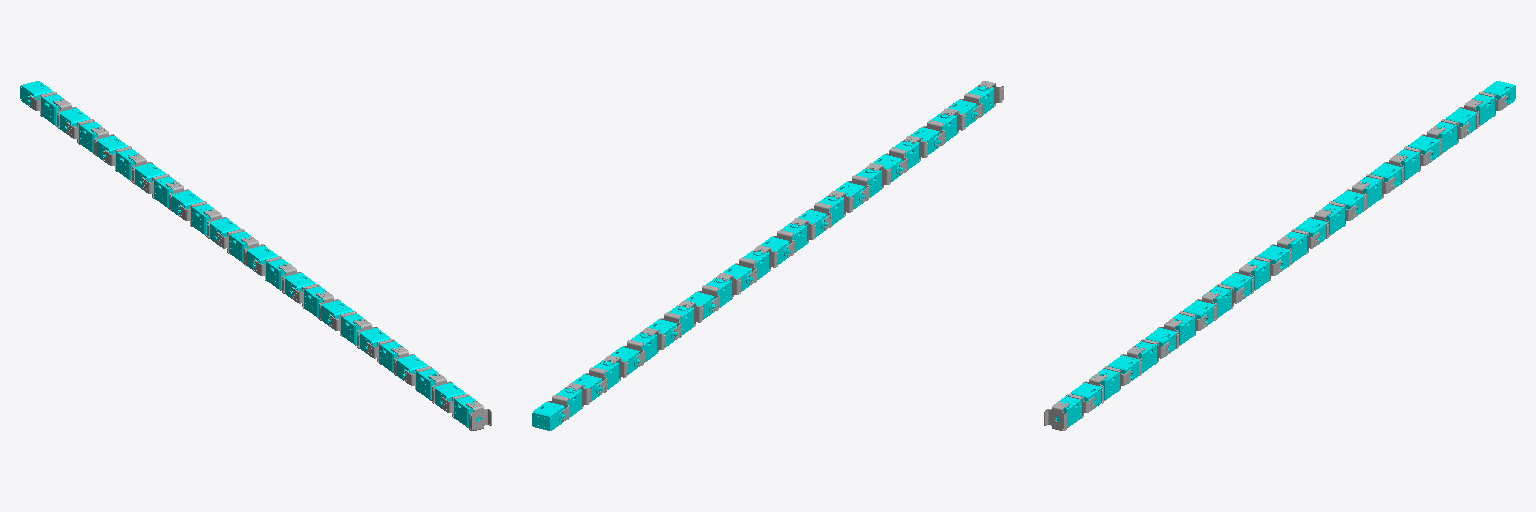
--- What the picture shows (computed from the rendered views, not written in the file) ---
The picture shows the robot from 3 angles, left to right: view 1: azimuth 30°, elevation 25°; view 2: azimuth 150°, elevation 25°; view 3: azimuth 330°, elevation 25°; orthographic projection.
Model test_robot with 49 links and 48 joints (24 revolute, 24 fixed), rooted at world, posed all joints at 0.
Links seen in each view (by area): view 1: none; view 2: dynamixel_001; view 3: none.
Boxes of the visible links, x1=… form: dynamixel_001: x1=532, y1=402, x2=565, y2=430.
Bounding box of the posed robot: 0.0439 × 1.46 × 0.0439 m (x, y, z).
48 mesh visuals loaded from 2 distinct referenced files (2 binary STL).

robot.urdf — test_robot:
<?xml version="1.0" encoding="utf-8"?>
<!-- =================================================================================== -->
<!-- |    This document was autogenerated by xacro from snake_stl.xacro                | -->
<!-- |    EDITING THIS FILE BY HAND IS NOT RECOMMENDED                                 | -->
<!-- =================================================================================== -->
<robot name="test_robot">
  <link name="world"/>
  <!-- マクロ関数の定義 -->
  <!-- link名 -->
  <link name="dynamixel_001">
    <!-- 見た目 -->
    <visual>
      <geometry>
        <mesh filename="package://snake/mesh/XH_430_idler.stl"/>
      </geometry>
      <material name="cyan">
        <color rgba="0.0 1.0 1.0 1.0"/>
      </material>
      <origin rpy="3.14159265359 1.57079632679 1.57079632679" xyz="0 0 0"/>
    </visual>
    <!--物理的特性-->
    <!--干渉-->
    <collision>
      <geometry>
        <mesh filename="package://snake/mesh/XH_430_idler.stl"/>
      </geometry>
    </collision>
    <!--慣性-->
    <inertial>
      <mass value="0.082"/>
      <inertia ixx="0.023729564" ixy="0" ixz="0" iyy="0.013112295" iyz="0" izz="0.020942871"/>
    </inertial>
  </link>
  <!-- link名 -->
  <link name="dynamixel_101">
    <!-- 見た目 -->
    <visual>
      <geometry>
        <mesh filename="package://snake/mesh/XH_430_idler.stl"/>
      </geometry>
      <material name="cyan">
        <color rgba="0.0 1.0 1.0 1.0"/>
      </material>
      <origin rpy="3.14159265359 1.57079632679 1.57079632679" xyz="0 0 0"/>
    </visual>
    <!--物理的特性-->
    <!--干渉-->
    <collision>
      <geometry>
        <mesh filename="package://snake/mesh/XH_430_idler.stl"/>
      </geometry>
    </collision>
    <!--慣性-->
    <inertial>
      <mass value="0.082"/>
      <inertia ixx="0.023729564" ixy="0" ixz="0" iyy="0.013112295" iyz="0" izz="0.020942871"/>
    </inertial>
  </link>
  <!-- link名 -->
  <link name="dynamixel_002">
    <!-- 見た目 -->
    <visual>
      <geometry>
        <mesh filename="package://snake/mesh/XH_430_idler.stl"/>
      </geometry>
      <material name="cyan">
        <color rgba="0.0 1.0 1.0 1.0"/>
      </material>
      <origin rpy="3.14159265359 1.57079632679 1.57079632679" xyz="0 0 0"/>
    </visual>
    <!--物理的特性-->
    <!--干渉-->
    <collision>
      <geometry>
        <mesh filename="package://snake/mesh/XH_430_idler.stl"/>
      </geometry>
    </collision>
    <!--慣性-->
    <inertial>
      <mass value="0.082"/>
      <inertia ixx="0.023729564" ixy="0" ixz="0" iyy="0.013112295" iyz="0" izz="0.020942871"/>
    </inertial>
  </link>
  <!-- link名 -->
  <link name="dynamixel_102">
    <!-- 見た目 -->
    <visual>
      <geometry>
        <mesh filename="package://snake/mesh/XH_430_idler.stl"/>
      </geometry>
      <material name="cyan">
        <color rgba="0.0 1.0 1.0 1.0"/>
      </material>
      <origin rpy="3.14159265359 1.57079632679 1.57079632679" xyz="0 0 0"/>
    </visual>
    <!--物理的特性-->
    <!--干渉-->
    <collision>
      <geometry>
        <mesh filename="package://snake/mesh/XH_430_idler.stl"/>
      </geometry>
    </collision>
    <!--慣性-->
    <inertial>
      <mass value="0.082"/>
      <inertia ixx="0.023729564" ixy="0" ixz="0" iyy="0.013112295" iyz="0" izz="0.020942871"/>
    </inertial>
  </link>
  <!-- link名 -->
  <link name="dynamixel_003">
    <!-- 見た目 -->
    <visual>
      <geometry>
        <mesh filename="package://snake/mesh/XH_430_idler.stl"/>
      </geometry>
      <material name="cyan">
        <color rgba="0.0 1.0 1.0 1.0"/>
      </material>
      <origin rpy="3.14159265359 1.57079632679 1.57079632679" xyz="0 0 0"/>
    </visual>
    <!--物理的特性-->
    <!--干渉-->
    <collision>
      <geometry>
        <mesh filename="package://snake/mesh/XH_430_idler.stl"/>
      </geometry>
    </collision>
    <!--慣性-->
    <inertial>
      <mass value="0.082"/>
      <inertia ixx="0.023729564" ixy="0" ixz="0" iyy="0.013112295" iyz="0" izz="0.020942871"/>
    </inertial>
  </link>
  <!-- link名 -->
  <link name="dynamixel_103">
    <!-- 見た目 -->
    <visual>
      <geometry>
        <mesh filename="package://snake/mesh/XH_430_idler.stl"/>
      </geometry>
      <material name="cyan">
        <color rgba="0.0 1.0 1.0 1.0"/>
      </material>
      <origin rpy="3.14159265359 1.57079632679 1.57079632679" xyz="0 0 0"/>
    </visual>
    <!--物理的特性-->
    <!--干渉-->
    <collision>
      <geometry>
        <mesh filename="package://snake/mesh/XH_430_idler.stl"/>
      </geometry>
    </collision>
    <!--慣性-->
    <inertial>
      <mass value="0.082"/>
      <inertia ixx="0.023729564" ixy="0" ixz="0" iyy="0.013112295" iyz="0" izz="0.020942871"/>
    </inertial>
  </link>
  <!-- link名 -->
  <link name="dynamixel_004">
    <!-- 見た目 -->
    <visual>
      <geometry>
        <mesh filename="package://snake/mesh/XH_430_idler.stl"/>
      </geometry>
      <material name="cyan">
        <color rgba="0.0 1.0 1.0 1.0"/>
      </material>
      <origin rpy="3.14159265359 1.57079632679 1.57079632679" xyz="0 0 0"/>
    </visual>
    <!--物理的特性-->
    <!--干渉-->
    <collision>
      <geometry>
        <mesh filename="package://snake/mesh/XH_430_idler.stl"/>
      </geometry>
    </collision>
    <!--慣性-->
    <inertial>
      <mass value="0.082"/>
      <inertia ixx="0.023729564" ixy="0" ixz="0" iyy="0.013112295" iyz="0" izz="0.020942871"/>
    </inertial>
  </link>
  <!-- link名 -->
  <link name="dynamixel_104">
    <!-- 見た目 -->
    <visual>
      <geometry>
        <mesh filename="package://snake/mesh/XH_430_idler.stl"/>
      </geometry>
      <material name="cyan">
        <color rgba="0.0 1.0 1.0 1.0"/>
      </material>
      <origin rpy="3.14159265359 1.57079632679 1.57079632679" xyz="0 0 0"/>
    </visual>
    <!--物理的特性-->
    <!--干渉-->
    <collision>
      <geometry>
        <mesh filename="package://snake/mesh/XH_430_idler.stl"/>
      </geometry>
    </collision>
    <!--慣性-->
    <inertial>
      <mass value="0.082"/>
      <inertia ixx="0.023729564" ixy="0" ixz="0" iyy="0.013112295" iyz="0" izz="0.020942871"/>
    </inertial>
  </link>
  <!-- link名 -->
  <link name="dynamixel_005">
    <!-- 見た目 -->
    <visual>
      <geometry>
        <mesh filename="package://snake/mesh/XH_430_idler.stl"/>
      </geometry>
      <material name="cyan">
        <color rgba="0.0 1.0 1.0 1.0"/>
      </material>
      <origin rpy="3.14159265359 1.57079632679 1.57079632679" xyz="0 0 0"/>
    </visual>
    <!--物理的特性-->
    <!--干渉-->
    <collision>
      <geometry>
        <mesh filename="package://snake/mesh/XH_430_idler.stl"/>
      </geometry>
    </collision>
    <!--慣性-->
    <inertial>
      <mass value="0.082"/>
      <inertia ixx="0.023729564" ixy="0" ixz="0" iyy="0.013112295" iyz="0" izz="0.020942871"/>
    </inertial>
  </link>
  <!-- link名 -->
  <link name="dynamixel_105">
    <!-- 見た目 -->
    <visual>
      <geometry>
        <mesh filename="package://snake/mesh/XH_430_idler.stl"/>
      </geometry>
      <material name="cyan">
        <color rgba="0.0 1.0 1.0 1.0"/>
      </material>
      <origin rpy="3.14159265359 1.57079632679 1.57079632679" xyz="0 0 0"/>
    </visual>
    <!--物理的特性-->
    <!--干渉-->
    <collision>
      <geometry>
        <mesh filename="package://snake/mesh/XH_430_idler.stl"/>
      </geometry>
    </collision>
    <!--慣性-->
    <inertial>
      <mass value="0.082"/>
      <inertia ixx="0.023729564" ixy="0" ixz="0" iyy="0.013112295" iyz="0" izz="0.020942871"/>
    </inertial>
  </link>
  <!-- link名 -->
  <link name="dynamixel_006">
    <!-- 見た目 -->
    <visual>
      <geometry>
        <mesh filename="package://snake/mesh/XH_430_idler.stl"/>
      </geometry>
      <material name="cyan">
        <color rgba="0.0 1.0 1.0 1.0"/>
      </material>
      <origin rpy="3.14159265359 1.57079632679 1.57079632679" xyz="0 0 0"/>
    </visual>
    <!--物理的特性-->
    <!--干渉-->
    <collision>
      <geometry>
        <mesh filename="package://snake/mesh/XH_430_idler.stl"/>
      </geometry>
    </collision>
    <!--慣性-->
    <inertial>
      <mass value="0.082"/>
      <inertia ixx="0.023729564" ixy="0" ixz="0" iyy="0.013112295" iyz="0" izz="0.020942871"/>
    </inertial>
  </link>
  <!-- link名 -->
  <link name="dynamixel_106">
    <!-- 見た目 -->
    <visual>
      <geometry>
        <mesh filename="package://snake/mesh/XH_430_idler.stl"/>
      </geometry>
      <material name="cyan">
        <color rgba="0.0 1.0 1.0 1.0"/>
      </material>
      <origin rpy="3.14159265359 1.57079632679 1.57079632679" xyz="0 0 0"/>
    </visual>
    <!--物理的特性-->
    <!--干渉-->
    <collision>
      <geometry>
        <mesh filename="package://snake/mesh/XH_430_idler.stl"/>
      </geometry>
    </collision>
    <!--慣性-->
    <inertial>
      <mass value="0.082"/>
      <inertia ixx="0.023729564" ixy="0" ixz="0" iyy="0.013112295" iyz="0" izz="0.020942871"/>
    </inertial>
  </link>
  <!-- link名 -->
  <link name="dynamixel_007">
    <!-- 見た目 -->
    <visual>
      <geometry>
        <mesh filename="package://snake/mesh/XH_430_idler.stl"/>
      </geometry>
      <material name="cyan">
        <color rgba="0.0 1.0 1.0 1.0"/>
      </material>
      <origin rpy="3.14159265359 1.57079632679 1.57079632679" xyz="0 0 0"/>
    </visual>
    <!--物理的特性-->
    <!--干渉-->
    <collision>
      <geometry>
        <mesh filename="package://snake/mesh/XH_430_idler.stl"/>
      </geometry>
    </collision>
    <!--慣性-->
    <inertial>
      <mass value="0.082"/>
      <inertia ixx="0.023729564" ixy="0" ixz="0" iyy="0.013112295" iyz="0" izz="0.020942871"/>
    </inertial>
  </link>
  <!-- link名 -->
  <link name="dynamixel_107">
    <!-- 見た目 -->
    <visual>
      <geometry>
        <mesh filename="package://snake/mesh/XH_430_idler.stl"/>
      </geometry>
      <material name="cyan">
        <color rgba="0.0 1.0 1.0 1.0"/>
      </material>
      <origin rpy="3.14159265359 1.57079632679 1.57079632679" xyz="0 0 0"/>
    </visual>
    <!--物理的特性-->
    <!--干渉-->
    <collision>
      <geometry>
        <mesh filename="package://snake/mesh/XH_430_idler.stl"/>
      </geometry>
    </collision>
    <!--慣性-->
    <inertial>
      <mass value="0.082"/>
      <inertia ixx="0.023729564" ixy="0" ixz="0" iyy="0.013112295" iyz="0" izz="0.020942871"/>
    </inertial>
  </link>
  <!-- link名 -->
  <link name="dynamixel_008">
    <!-- 見た目 -->
    <visual>
      <geometry>
        <mesh filename="package://snake/mesh/XH_430_idler.stl"/>
      </geometry>
      <material name="cyan">
        <color rgba="0.0 1.0 1.0 1.0"/>
      </material>
      <origin rpy="3.14159265359 1.57079632679 1.57079632679" xyz="0 0 0"/>
    </visual>
    <!--物理的特性-->
    <!--干渉-->
    <collision>
      <geometry>
        <mesh filename="package://snake/mesh/XH_430_idler.stl"/>
      </geometry>
    </collision>
    <!--慣性-->
    <inertial>
      <mass value="0.082"/>
      <inertia ixx="0.023729564" ixy="0" ixz="0" iyy="0.013112295" iyz="0" izz="0.020942871"/>
    </inertial>
  </link>
  <!-- link名 -->
  <link name="dynamixel_108">
    <!-- 見た目 -->
    <visual>
      <geometry>
        <mesh filename="package://snake/mesh/XH_430_idler.stl"/>
      </geometry>
      <material name="cyan">
        <color rgba="0.0 1.0 1.0 1.0"/>
      </material>
      <origin rpy="3.14159265359 1.57079632679 1.57079632679" xyz="0 0 0"/>
    </visual>
    <!--物理的特性-->
    <!--干渉-->
    <collision>
      <geometry>
        <mesh filename="package://snake/mesh/XH_430_idler.stl"/>
      </geometry>
    </collision>
    <!--慣性-->
    <inertial>
      <mass value="0.082"/>
      <inertia ixx="0.023729564" ixy="0" ixz="0" iyy="0.013112295" iyz="0" izz="0.020942871"/>
    </inertial>
  </link>
  <!-- link名 -->
  <link name="dynamixel_009">
    <!-- 見た目 -->
    <visual>
      <geometry>
        <mesh filename="package://snake/mesh/XH_430_idler.stl"/>
      </geometry>
      <material name="cyan">
        <color rgba="0.0 1.0 1.0 1.0"/>
      </material>
      <origin rpy="3.14159265359 1.57079632679 1.57079632679" xyz="0 0 0"/>
    </visual>
    <!--物理的特性-->
    <!--干渉-->
    <collision>
      <geometry>
        <mesh filename="package://snake/mesh/XH_430_idler.stl"/>
      </geometry>
    </collision>
    <!--慣性-->
    <inertial>
      <mass value="0.082"/>
      <inertia ixx="0.023729564" ixy="0" ixz="0" iyy="0.013112295" iyz="0" izz="0.020942871"/>
    </inertial>
  </link>
  <!-- link名 -->
  <link name="dynamixel_109">
    <!-- 見た目 -->
    <visual>
      <geometry>
        <mesh filename="package://snake/mesh/XH_430_idler.stl"/>
      </geometry>
      <material name="cyan">
        <color rgba="0.0 1.0 1.0 1.0"/>
      </material>
      <origin rpy="3.14159265359 1.57079632679 1.57079632679" xyz="0 0 0"/>
    </visual>
    <!--物理的特性-->
    <!--干渉-->
    <collision>
      <geometry>
        <mesh filename="package://snake/mesh/XH_430_idler.stl"/>
      </geometry>
    </collision>
    <!--慣性-->
    <inertial>
      <mass value="0.082"/>
      <inertia ixx="0.023729564" ixy="0" ixz="0" iyy="0.013112295" iyz="0" izz="0.020942871"/>
    </inertial>
  </link>
  <!-- link名 -->
  <link name="dynamixel_010">
    <!-- 見た目 -->
    <visual>
      <geometry>
        <mesh filename="package://snake/mesh/XH_430_idler.stl"/>
      </geometry>
      <material name="cyan">
        <color rgba="0.0 1.0 1.0 1.0"/>
      </material>
      <origin rpy="3.14159265359 1.57079632679 1.57079632679" xyz="0 0 0"/>
    </visual>
    <!--物理的特性-->
    <!--干渉-->
    <collision>
      <geometry>
        <mesh filename="package://snake/mesh/XH_430_idler.stl"/>
      </geometry>
    </collision>
    <!--慣性-->
    <inertial>
      <mass value="0.082"/>
      <inertia ixx="0.023729564" ixy="0" ixz="0" iyy="0.013112295" iyz="0" izz="0.020942871"/>
    </inertial>
  </link>
  <!-- link名 -->
  <link name="dynamixel_110">
    <!-- 見た目 -->
    <visual>
      <geometry>
        <mesh filename="package://snake/mesh/XH_430_idler.stl"/>
      </geometry>
      <material name="cyan">
        <color rgba="0.0 1.0 1.0 1.0"/>
      </material>
      <origin rpy="3.14159265359 1.57079632679 1.57079632679" xyz="0 0 0"/>
    </visual>
    <!--物理的特性-->
    <!--干渉-->
    <collision>
      <geometry>
        <mesh filename="package://snake/mesh/XH_430_idler.stl"/>
      </geometry>
    </collision>
    <!--慣性-->
    <inertial>
      <mass value="0.082"/>
      <inertia ixx="0.023729564" ixy="0" ixz="0" iyy="0.013112295" iyz="0" izz="0.020942871"/>
    </inertial>
  </link>
  <!-- link名 -->
  <link name="dynamixel_011">
    <!-- 見た目 -->
    <visual>
      <geometry>
        <mesh filename="package://snake/mesh/XH_430_idler.stl"/>
      </geometry>
      <material name="cyan">
        <color rgba="0.0 1.0 1.0 1.0"/>
      </material>
      <origin rpy="3.14159265359 1.57079632679 1.57079632679" xyz="0 0 0"/>
    </visual>
    <!--物理的特性-->
    <!--干渉-->
    <collision>
      <geometry>
        <mesh filename="package://snake/mesh/XH_430_idler.stl"/>
      </geometry>
    </collision>
    <!--慣性-->
    <inertial>
      <mass value="0.082"/>
      <inertia ixx="0.023729564" ixy="0" ixz="0" iyy="0.013112295" iyz="0" izz="0.020942871"/>
    </inertial>
  </link>
  <!-- link名 -->
  <link name="dynamixel_111">
    <!-- 見た目 -->
    <visual>
      <geometry>
        <mesh filename="package://snake/mesh/XH_430_idler.stl"/>
      </geometry>
      <material name="cyan">
        <color rgba="0.0 1.0 1.0 1.0"/>
      </material>
      <origin rpy="3.14159265359 1.57079632679 1.57079632679" xyz="0 0 0"/>
    </visual>
    <!--物理的特性-->
    <!--干渉-->
    <collision>
      <geometry>
        <mesh filename="package://snake/mesh/XH_430_idler.stl"/>
      </geometry>
    </collision>
    <!--慣性-->
    <inertial>
      <mass value="0.082"/>
      <inertia ixx="0.023729564" ixy="0" ixz="0" iyy="0.013112295" iyz="0" izz="0.020942871"/>
    </inertial>
  </link>
  <!-- link名 -->
  <link name="dynamixel_012">
    <!-- 見た目 -->
    <visual>
      <geometry>
        <mesh filename="package://snake/mesh/XH_430_idler.stl"/>
      </geometry>
      <material name="cyan">
        <color rgba="0.0 1.0 1.0 1.0"/>
      </material>
      <origin rpy="3.14159265359 1.57079632679 1.57079632679" xyz="0 0 0"/>
    </visual>
    <!--物理的特性-->
    <!--干渉-->
    <collision>
      <geometry>
        <mesh filename="package://snake/mesh/XH_430_idler.stl"/>
      </geometry>
    </collision>
    <!--慣性-->
    <inertial>
      <mass value="0.082"/>
      <inertia ixx="0.023729564" ixy="0" ixz="0" iyy="0.013112295" iyz="0" izz="0.020942871"/>
    </inertial>
  </link>
  <!-- link名 -->
  <link name="dynamixel_112">
    <!-- 見た目 -->
    <visual>
      <geometry>
        <mesh filename="package://snake/mesh/XH_430_idler.stl"/>
      </geometry>
      <material name="cyan">
        <color rgba="0.0 1.0 1.0 1.0"/>
      </material>
      <origin rpy="3.14159265359 1.57079632679 1.57079632679" xyz="0 0 0"/>
    </visual>
    <!--物理的特性-->
    <!--干渉-->
    <collision>
      <geometry>
        <mesh filename="package://snake/mesh/XH_430_idler.stl"/>
      </geometry>
    </collision>
    <!--慣性-->
    <inertial>
      <mass value="0.082"/>
      <inertia ixx="0.023729564" ixy="0" ixz="0" iyy="0.013112295" iyz="0" izz="0.020942871"/>
    </inertial>
  </link>
  <link name="bracket_001">
    <visual>
      <geometry>
        <mesh filename="package://snake/mesh/xh430_frame.stl"/>
      </geometry>
      <material name="silver">
        <color rgba="0.75 0.75 0.75 1"/>
      </material>
      <origin rpy="-1.57079632679 -1.57079632679 3.14159265359" xyz="0.023 0 0"/>
    </visual>
    <!--物理的特性-->
    <!--干渉-->
    <collision>
      <geometry>
        <mesh filename="package://snake/mesh/xh430_frame.stl"/>
      </geometry>
    </collision>
    <!--慣性-->
    <inertial>
      <mass value="0.0060293114415"/>
      <inertia ixx="0" ixy="0" ixz="0" iyy="0" iyz="0" izz="0"/>
    </inertial>
  </link>
  <link name="bracket_002">
    <visual>
      <geometry>
        <mesh filename="package://snake/mesh/xh430_frame.stl"/>
      </geometry>
      <material name="silver">
        <color rgba="0.75 0.75 0.75 1"/>
      </material>
      <origin rpy="-1.57079632679 -1.57079632679 3.14159265359" xyz="0.023 0 0"/>
    </visual>
    <!--物理的特性-->
    <!--干渉-->
    <collision>
      <geometry>
        <mesh filename="package://snake/mesh/xh430_frame.stl"/>
      </geometry>
    </collision>
    <!--慣性-->
    <inertial>
      <mass value="0.0060293114415"/>
      <inertia ixx="0" ixy="0" ixz="0" iyy="0" iyz="0" izz="0"/>
    </inertial>
  </link>
  <link name="bracket_003">
    <visual>
      <geometry>
        <mesh filename="package://snake/mesh/xh430_frame.stl"/>
      </geometry>
      <material name="silver">
        <color rgba="0.75 0.75 0.75 1"/>
      </material>
      <origin rpy="-1.57079632679 -1.57079632679 3.14159265359" xyz="0.023 0 0"/>
    </visual>
    <!--物理的特性-->
    <!--干渉-->
    <collision>
      <geometry>
        <mesh filename="package://snake/mesh/xh430_frame.stl"/>
      </geometry>
    </collision>
    <!--慣性-->
    <inertial>
      <mass value="0.0060293114415"/>
      <inertia ixx="0" ixy="0" ixz="0" iyy="0" iyz="0" izz="0"/>
    </inertial>
  </link>
  <link name="bracket_004">
    <visual>
      <geometry>
        <mesh filename="package://snake/mesh/xh430_frame.stl"/>
      </geometry>
      <material name="silver">
        <color rgba="0.75 0.75 0.75 1"/>
      </material>
      <origin rpy="-1.57079632679 -1.57079632679 3.14159265359" xyz="0.023 0 0"/>
    </visual>
    <!--物理的特性-->
    <!--干渉-->
    <collision>
      <geometry>
        <mesh filename="package://snake/mesh/xh430_frame.stl"/>
      </geometry>
    </collision>
    <!--慣性-->
    <inertial>
      <mass value="0.0060293114415"/>
      <inertia ixx="0" ixy="0" ixz="0" iyy="0" iyz="0" izz="0"/>
    </inertial>
  </link>
  <link name="bracket_005">
    <visual>
      <geometry>
        <mesh filename="package://snake/mesh/xh430_frame.stl"/>
      </geometry>
      <material name="silver">
        <color rgba="0.75 0.75 0.75 1"/>
      </material>
      <origin rpy="-1.57079632679 -1.57079632679 3.14159265359" xyz="0.023 0 0"/>
    </visual>
    <!--物理的特性-->
    <!--干渉-->
    <collision>
      <geometry>
        <mesh filename="package://snake/mesh/xh430_frame.stl"/>
      </geometry>
    </collision>
    <!--慣性-->
    <inertial>
      <mass value="0.0060293114415"/>
      <inertia ixx="0" ixy="0" ixz="0" iyy="0" iyz="0" izz="0"/>
    </inertial>
  </link>
  <link name="bracket_006">
    <visual>
      <geometry>
        <mesh filename="package://snake/mesh/xh430_frame.stl"/>
      </geometry>
      <material name="silver">
        <color rgba="0.75 0.75 0.75 1"/>
      </material>
      <origin rpy="-1.57079632679 -1.57079632679 3.14159265359" xyz="0.023 0 0"/>
    </visual>
    <!--物理的特性-->
    <!--干渉-->
    <collision>
      <geometry>
        <mesh filename="package://snake/mesh/xh430_frame.stl"/>
      </geometry>
    </collision>
    <!--慣性-->
    <inertial>
      <mass value="0.0060293114415"/>
      <inertia ixx="0" ixy="0" ixz="0" iyy="0" iyz="0" izz="0"/>
    </inertial>
  </link>
  <link name="bracket_007">
    <visual>
      <geometry>
        <mesh filename="package://snake/mesh/xh430_frame.stl"/>
      </geometry>
      <material name="silver">
        <color rgba="0.75 0.75 0.75 1"/>
      </material>
      <origin rpy="-1.57079632679 -1.57079632679 3.14159265359" xyz="0.023 0 0"/>
    </visual>
    <!--物理的特性-->
    <!--干渉-->
    <collision>
      <geometry>
        <mesh filename="package://snake/mesh/xh430_frame.stl"/>
      </geometry>
    </collision>
    <!--慣性-->
    <inertial>
      <mass value="0.0060293114415"/>
      <inertia ixx="0" ixy="0" ixz="0" iyy="0" iyz="0" izz="0"/>
    </inertial>
  </link>
  <link name="bracket_008">
    <visual>
      <geometry>
        <mesh filename="package://snake/mesh/xh430_frame.stl"/>
      </geometry>
      <material name="silver">
        <color rgba="0.75 0.75 0.75 1"/>
      </material>
      <origin rpy="-1.57079632679 -1.57079632679 3.14159265359" xyz="0.023 0 0"/>
    </visual>
    <!--物理的特性-->
    <!--干渉-->
    <collision>
      <geometry>
        <mesh filename="package://snake/mesh/xh430_frame.stl"/>
      </geometry>
    </collision>
    <!--慣性-->
    <inertial>
      <mass value="0.0060293114415"/>
      <inertia ixx="0" ixy="0" ixz="0" iyy="0" iyz="0" izz="0"/>
    </inertial>
  </link>
  <link name="bracket_009">
    <visual>
      <geometry>
        <mesh filename="package://snake/mesh/xh430_frame.stl"/>
      </geometry>
      <material name="silver">
        <color rgba="0.75 0.75 0.75 1"/>
      </material>
      <origin rpy="-1.57079632679 -1.57079632679 3.14159265359" xyz="0.023 0 0"/>
    </visual>
    <!--物理的特性-->
    <!--干渉-->
    <collision>
      <geometry>
        <mesh filename="package://snake/mesh/xh430_frame.stl"/>
      </geometry>
    </collision>
    <!--慣性-->
    <inertial>
      <mass value="0.0060293114415"/>
      <inertia ixx="0" ixy="0" ixz="0" iyy="0" iyz="0" izz="0"/>
    </inertial>
  </link>
  <link name="bracket_010">
    <visual>
      <geometry>
        <mesh filename="package://snake/mesh/xh430_frame.stl"/>
      </geometry>
      <material name="silver">
        <color rgba="0.75 0.75 0.75 1"/>
      </material>
      <origin rpy="-1.57079632679 -1.57079632679 3.14159265359" xyz="0.023 0 0"/>
    </visual>
    <!--物理的特性-->
    <!--干渉-->
    <collision>
      <geometry>
        <mesh filename="package://snake/mesh/xh430_frame.stl"/>
      </geometry>
    </collision>
    <!--慣性-->
    <inertial>
      <mass value="0.0060293114415"/>
      <inertia ixx="0" ixy="0" ixz="0" iyy="0" iyz="0" izz="0"/>
    </inertial>
  </link>
  <link name="bracket_011">
    <visual>
      <geometry>
        <mesh filename="package://snake/mesh/xh430_frame.stl"/>
      </geometry>
      <material name="silver">
        <color rgba="0.75 0.75 0.75 1"/>
      </material>
      <origin rpy="-1.57079632679 -1.57079632679 3.14159265359" xyz="0.023 0 0"/>
    </visual>
    <!--物理的特性-->
    <!--干渉-->
    <collision>
      <geometry>
        <mesh filename="package://snake/mesh/xh430_frame.stl"/>
      </geometry>
    </collision>
    <!--慣性-->
    <inertial>
      <mass value="0.0060293114415"/>
      <inertia ixx="0" ixy="0" ixz="0" iyy="0" iyz="0" izz="0"/>
    </inertial>
  </link>
  <link name="bracket_012">
    <visual>
      <geometry>
        <mesh filename="package://snake/mesh/xh430_frame.stl"/>
      </geometry>
      <material name="silver">
        <color rgba="0.75 0.75 0.75 1"/>
      </material>
      <origin rpy="-1.57079632679 -1.57079632679 3.14159265359" xyz="0.023 0 0"/>
    </visual>
    <!--物理的特性-->
    <!--干渉-->
    <collision>
      <geometry>
        <mesh filename="package://snake/mesh/xh430_frame.stl"/>
      </geometry>
    </collision>
    <!--慣性-->
    <inertial>
      <mass value="0.0060293114415"/>
      <inertia ixx="0" ixy="0" ixz="0" iyy="0" iyz="0" izz="0"/>
    </inertial>
  </link>
  <link name="bracket_013">
    <visual>
      <geometry>
        <mesh filename="package://snake/mesh/xh430_frame.stl"/>
      </geometry>
      <material name="silver">
        <color rgba="0.75 0.75 0.75 1"/>
      </material>
      <origin rpy="-1.57079632679 -1.57079632679 3.14159265359" xyz="0.023 0 0"/>
    </visual>
    <!--物理的特性-->
    <!--干渉-->
    <collision>
      <geometry>
        <mesh filename="package://snake/mesh/xh430_frame.stl"/>
      </geometry>
    </collision>
    <!--慣性-->
    <inertial>
      <mass value="0.0060293114415"/>
      <inertia ixx="0" ixy="0" ixz="0" iyy="0" iyz="0" izz="0"/>
    </inertial>
  </link>
  <link name="bracket_014">
    <visual>
      <geometry>
        <mesh filename="package://snake/mesh/xh430_frame.stl"/>
      </geometry>
      <material name="silver">
        <color rgba="0.75 0.75 0.75 1"/>
      </material>
      <origin rpy="-1.57079632679 -1.57079632679 3.14159265359" xyz="0.023 0 0"/>
    </visual>
    <!--物理的特性-->
    <!--干渉-->
    <collision>
      <geometry>
        <mesh filename="package://snake/mesh/xh430_frame.stl"/>
      </geometry>
    </collision>
    <!--慣性-->
    <inertial>
      <mass value="0.0060293114415"/>
      <inertia ixx="0" ixy="0" ixz="0" iyy="0" iyz="0" izz="0"/>
    </inertial>
  </link>
  <link name="bracket_015">
    <visual>
      <geometry>
        <mesh filename="package://snake/mesh/xh430_frame.stl"/>
      </geometry>
      <material name="silver">
        <color rgba="0.75 0.75 0.75 1"/>
      </material>
      <origin rpy="-1.57079632679 -1.57079632679 3.14159265359" xyz="0.023 0 0"/>
    </visual>
    <!--物理的特性-->
    <!--干渉-->
    <collision>
      <geometry>
        <mesh filename="package://snake/mesh/xh430_frame.stl"/>
      </geometry>
    </collision>
    <!--慣性-->
    <inertial>
      <mass value="0.0060293114415"/>
      <inertia ixx="0" ixy="0" ixz="0" iyy="0" iyz="0" izz="0"/>
    </inertial>
  </link>
  <link name="bracket_016">
    <visual>
      <geometry>
        <mesh filename="package://snake/mesh/xh430_frame.stl"/>
      </geometry>
      <material name="silver">
        <color rgba="0.75 0.75 0.75 1"/>
      </material>
      <origin rpy="-1.57079632679 -1.57079632679 3.14159265359" xyz="0.023 0 0"/>
    </visual>
    <!--物理的特性-->
    <!--干渉-->
    <collision>
      <geometry>
        <mesh filename="package://snake/mesh/xh430_frame.stl"/>
      </geometry>
    </collision>
    <!--慣性-->
    <inertial>
      <mass value="0.0060293114415"/>
      <inertia ixx="0" ixy="0" ixz="0" iyy="0" iyz="0" izz="0"/>
    </inertial>
  </link>
  <link name="bracket_017">
    <visual>
      <geometry>
        <mesh filename="package://snake/mesh/xh430_frame.stl"/>
      </geometry>
      <material name="silver">
        <color rgba="0.75 0.75 0.75 1"/>
      </material>
      <origin rpy="-1.57079632679 -1.57079632679 3.14159265359" xyz="0.023 0 0"/>
    </visual>
    <!--物理的特性-->
    <!--干渉-->
    <collision>
      <geometry>
        <mesh filename="package://snake/mesh/xh430_frame.stl"/>
      </geometry>
    </collision>
    <!--慣性-->
    <inertial>
      <mass value="0.0060293114415"/>
      <inertia ixx="0" ixy="0" ixz="0" iyy="0" iyz="0" izz="0"/>
    </inertial>
  </link>
  <link name="bracket_018">
    <visual>
      <geometry>
        <mesh filename="package://snake/mesh/xh430_frame.stl"/>
      </geometry>
      <material name="silver">
        <color rgba="0.75 0.75 0.75 1"/>
      </material>
      <origin rpy="-1.57079632679 -1.57079632679 3.14159265359" xyz="0.023 0 0"/>
    </visual>
    <!--物理的特性-->
    <!--干渉-->
    <collision>
      <geometry>
        <mesh filename="package://snake/mesh/xh430_frame.stl"/>
      </geometry>
    </collision>
    <!--慣性-->
    <inertial>
      <mass value="0.0060293114415"/>
      <inertia ixx="0" ixy="0" ixz="0" iyy="0" iyz="0" izz="0"/>
    </inertial>
  </link>
  <link name="bracket_019">
    <visual>
      <geometry>
        <mesh filename="package://snake/mesh/xh430_frame.stl"/>
      </geometry>
      <material name="silver">
        <color rgba="0.75 0.75 0.75 1"/>
      </material>
      <origin rpy="-1.57079632679 -1.57079632679 3.14159265359" xyz="0.023 0 0"/>
    </visual>
    <!--物理的特性-->
    <!--干渉-->
    <collision>
      <geometry>
        <mesh filename="package://snake/mesh/xh430_frame.stl"/>
      </geometry>
    </collision>
    <!--慣性-->
    <inertial>
      <mass value="0.0060293114415"/>
      <inertia ixx="0" ixy="0" ixz="0" iyy="0" iyz="0" izz="0"/>
    </inertial>
  </link>
  <link name="bracket_020">
    <visual>
      <geometry>
        <mesh filename="package://snake/mesh/xh430_frame.stl"/>
      </geometry>
      <material name="silver">
        <color rgba="0.75 0.75 0.75 1"/>
      </material>
      <origin rpy="-1.57079632679 -1.57079632679 3.14159265359" xyz="0.023 0 0"/>
    </visual>
    <!--物理的特性-->
    <!--干渉-->
    <collision>
      <geometry>
        <mesh filename="package://snake/mesh/xh430_frame.stl"/>
      </geometry>
    </collision>
    <!--慣性-->
    <inertial>
      <mass value="0.0060293114415"/>
      <inertia ixx="0" ixy="0" ixz="0" iyy="0" iyz="0" izz="0"/>
    </inertial>
  </link>
  <link name="bracket_021">
    <visual>
      <geometry>
        <mesh filename="package://snake/mesh/xh430_frame.stl"/>
      </geometry>
      <material name="silver">
        <color rgba="0.75 0.75 0.75 1"/>
      </material>
      <origin rpy="-1.57079632679 -1.57079632679 3.14159265359" xyz="0.023 0 0"/>
    </visual>
    <!--物理的特性-->
    <!--干渉-->
    <collision>
      <geometry>
        <mesh filename="package://snake/mesh/xh430_frame.stl"/>
      </geometry>
    </collision>
    <!--慣性-->
    <inertial>
      <mass value="0.0060293114415"/>
      <inertia ixx="0" ixy="0" ixz="0" iyy="0" iyz="0" izz="0"/>
    </inertial>
  </link>
  <link name="bracket_022">
    <visual>
      <geometry>
        <mesh filename="package://snake/mesh/xh430_frame.stl"/>
      </geometry>
      <material name="silver">
        <color rgba="0.75 0.75 0.75 1"/>
      </material>
      <origin rpy="-1.57079632679 -1.57079632679 3.14159265359" xyz="0.023 0 0"/>
    </visual>
    <!--物理的特性-->
    <!--干渉-->
    <collision>
      <geometry>
        <mesh filename="package://snake/mesh/xh430_frame.stl"/>
      </geometry>
    </collision>
    <!--慣性-->
    <inertial>
      <mass value="0.0060293114415"/>
      <inertia ixx="0" ixy="0" ixz="0" iyy="0" iyz="0" izz="0"/>
    </inertial>
  </link>
  <link name="bracket_023">
    <visual>
      <geometry>
        <mesh filename="package://snake/mesh/xh430_frame.stl"/>
      </geometry>
      <material name="silver">
        <color rgba="0.75 0.75 0.75 1"/>
      </material>
      <origin rpy="-1.57079632679 -1.57079632679 3.14159265359" xyz="0.023 0 0"/>
    </visual>
    <!--物理的特性-->
    <!--干渉-->
    <collision>
      <geometry>
        <mesh filename="package://snake/mesh/xh430_frame.stl"/>
      </geometry>
    </collision>
    <!--慣性-->
    <inertial>
      <mass value="0.0060293114415"/>
      <inertia ixx="0" ixy="0" ixz="0" iyy="0" iyz="0" izz="0"/>
    </inertial>
  </link>
  <link name="bracket_024">
    <visual>
      <geometry>
        <mesh filename="package://snake/mesh/xh430_frame.stl"/>
      </geometry>
      <material name="silver">
        <color rgba="0.75 0.75 0.75 1"/>
      </material>
      <origin rpy="-1.57079632679 -1.57079632679 3.14159265359" xyz="0.023 0 0"/>
    </visual>
    <!--物理的特性-->
    <!--干渉-->
    <collision>
      <geometry>
        <mesh filename="package://snake/mesh/xh430_frame.stl"/>
      </geometry>
    </collision>
    <!--慣性-->
    <inertial>
      <mass value="0.0060293114415"/>
      <inertia ixx="0" ixy="0" ixz="0" iyy="0" iyz="0" izz="0"/>
    </inertial>
  </link>
  <!--ジョイントの定義-->
  <!--ワールドとリンク1-->
  <joint name="fixed_000" type="fixed">
    <parent link="world"/>
    <child link="dynamixel_001"/>
    <origin rpy="0 0 -1.57079632679" xyz="0 0 0"/>
    <limit effort="0" lower="-1.57079632679" upper="1.57079632679" velocity="0"/>
  </joint>
  <joint name="joint_001" type="revolute">
    <axis xyz="0 1 0"/>
    <parent link="dynamixel_001"/>
    <child link="bracket_001"/>
    <origin rpy="0 0 0" xyz="0 0 0"/>
    <limit effort="0" lower="-1.57079632679" upper="1.57079632679" velocity="0"/>
  </joint>
  <joint name="fixed_001" type="fixed">
    <parent link="bracket_001"/>
    <child link="dynamixel_101"/>
    <origin rpy="1.57079632679 0 0" xyz="0.0605 0 0"/>
    <limit effort="0" lower="-1.57079632679" upper="1.57079632679" velocity="0"/>
  </joint>
  <joint name="joint_002" type="revolute">
    <axis xyz="0 1 0"/>
    <parent link="dynamixel_101"/>
    <child link="bracket_002"/>
    <origin rpy="0 0 0" xyz="0 0 0"/>
    <limit effort="0" lower="-1.57079632679" upper="1.57079632679" velocity="0"/>
  </joint>
  <joint name="fixed_002" type="fixed">
    <parent link="bracket_002"/>
    <child link="dynamixel_002"/>
    <origin rpy="-1.57079632679 0 0" xyz="0.0605 0 0"/>
    <limit effort="0" lower="-1.57079632679" upper="1.57079632679" velocity="0"/>
  </joint>
  <joint name="joint_003" type="revolute">
    <axis xyz="0 1 0"/>
    <parent link="dynamixel_002"/>
    <child link="bracket_003"/>
    <origin rpy="0 0 0" xyz="0 0 0"/>
    <limit effort="0" lower="-1.57079632679" upper="1.57079632679" velocity="0"/>
  </joint>
  <joint name="fixed_003" type="fixed">
    <parent link="bracket_003"/>
    <child link="dynamixel_102"/>
    <origin rpy="1.57079632679 0 0" xyz="0.0605 0 0"/>
    <limit effort="0" lower="-1.57079632679" upper="1.57079632679" velocity="0"/>
  </joint>
  <joint name="joint_004" type="revolute">
    <axis xyz="0 1 0"/>
    <parent link="dynamixel_102"/>
    <child link="bracket_004"/>
    <origin rpy="0 0 0" xyz="0 0 0"/>
    <limit effort="0" lower="-1.57079632679" upper="1.57079632679" velocity="0"/>
  </joint>
  <joint name="fixed_004" type="fixed">
    <parent link="bracket_004"/>
    <child link="dynamixel_003"/>
    <origin rpy="-1.57079632679 0 0" xyz="0.0605 0 0"/>
    <limit effort="0" lower="-1.57079632679" upper="1.57079632679" velocity="0"/>
  </joint>
  <joint name="joint_005" type="revolute">
    <axis xyz="0 1 0"/>
    <parent link="dynamixel_003"/>
    <child link="bracket_005"/>
    <origin rpy="0 0 0" xyz="0 0 0"/>
    <limit effort="0" lower="-1.57079632679" upper="1.57079632679" velocity="0"/>
  </joint>
  <joint name="fixed_005" type="fixed">
    <parent link="bracket_005"/>
    <child link="dynamixel_103"/>
    <origin rpy="1.57079632679 0 0" xyz="0.0605 0 0"/>
    <limit effort="0" lower="-1.57079632679" upper="1.57079632679" velocity="0"/>
  </joint>
  <joint name="joint_006" type="revolute">
    <axis xyz="0 1 0"/>
    <parent link="dynamixel_103"/>
    <child link="bracket_006"/>
    <origin rpy="0 0 0" xyz="0 0 0"/>
    <limit effort="0" lower="-1.57079632679" upper="1.57079632679" velocity="0"/>
  </joint>
  <joint name="fixed_006" type="fixed">
    <parent link="bracket_006"/>
    <child link="dynamixel_004"/>
    <origin rpy="-1.57079632679 0 0" xyz="0.0605 0 0"/>
    <limit effort="0" lower="-1.57079632679" upper="1.57079632679" velocity="0"/>
  </joint>
  <joint name="joint_007" type="revolute">
    <axis xyz="0 1 0"/>
    <parent link="dynamixel_004"/>
    <child link="bracket_007"/>
    <origin rpy="0 0 0" xyz="0 0 0"/>
    <limit effort="0" lower="-1.57079632679" upper="1.57079632679" velocity="0"/>
  </joint>
  <joint name="fixed_007" type="fixed">
    <parent link="bracket_007"/>
    <child link="dynamixel_104"/>
    <origin rpy="1.57079632679 0 0" xyz="0.0605 0 0"/>
    <limit effort="0" lower="-1.57079632679" upper="1.57079632679" velocity="0"/>
  </joint>
  <joint name="joint_008" type="revolute">
    <axis xyz="0 1 0"/>
    <parent link="dynamixel_104"/>
    <child link="bracket_008"/>
    <origin rpy="0 0 0" xyz="0 0 0"/>
    <limit effort="0" lower="-1.57079632679" upper="1.57079632679" velocity="0"/>
  </joint>
  <joint name="fixed_008" type="fixed">
    <parent link="bracket_008"/>
    <child link="dynamixel_005"/>
    <origin rpy="-1.57079632679 0 0" xyz="0.0605 0 0"/>
    <limit effort="0" lower="-1.57079632679" upper="1.57079632679" velocity="0"/>
  </joint>
  <joint name="joint_009" type="revolute">
    <axis xyz="0 1 0"/>
    <parent link="dynamixel_005"/>
    <child link="bracket_009"/>
    <origin rpy="0 0 0" xyz="0 0 0"/>
    <limit effort="0" lower="-1.57079632679" upper="1.57079632679" velocity="0"/>
  </joint>
  <joint name="fixed_009" type="fixed">
    <parent link="bracket_009"/>
    <child link="dynamixel_105"/>
    <origin rpy="1.57079632679 0 0" xyz="0.0605 0 0"/>
    <limit effort="0" lower="-1.57079632679" upper="1.57079632679" velocity="0"/>
  </joint>
  <joint name="joint_010" type="revolute">
    <axis xyz="0 1 0"/>
    <parent link="dynamixel_105"/>
    <child link="bracket_010"/>
    <origin rpy="0 0 0" xyz="0 0 0"/>
    <limit effort="0" lower="-1.57079632679" upper="1.57079632679" velocity="0"/>
  </joint>
  <joint name="fixed_010" type="fixed">
    <parent link="bracket_010"/>
    <child link="dynamixel_006"/>
    <origin rpy="-1.57079632679 0 0" xyz="0.0605 0 0"/>
    <limit effort="0" lower="-1.57079632679" upper="1.57079632679" velocity="0"/>
  </joint>
  <joint name="joint_011" type="revolute">
    <axis xyz="0 1 0"/>
    <parent link="dynamixel_006"/>
    <child link="bracket_011"/>
    <origin rpy="0 0 0" xyz="0 0 0"/>
    <limit effort="0" lower="-1.57079632679" upper="1.57079632679" velocity="0"/>
  </joint>
  <joint name="fixed_011" type="fixed">
    <parent link="bracket_011"/>
    <child link="dynamixel_106"/>
    <origin rpy="1.57079632679 0 0" xyz="0.0605 0 0"/>
    <limit effort="0" lower="-1.57079632679" upper="1.57079632679" velocity="0"/>
  </joint>
  <joint name="joint_012" type="revolute">
    <axis xyz="0 1 0"/>
    <parent link="dynamixel_106"/>
    <child link="bracket_012"/>
    <origin rpy="0 0 0" xyz="0 0 0"/>
    <limit effort="0" lower="-1.57079632679" upper="1.57079632679" velocity="0"/>
  </joint>
  <joint name="fixed_012" type="fixed">
    <parent link="bracket_012"/>
    <child link="dynamixel_007"/>
    <origin rpy="-1.57079632679 0 0" xyz="0.0605 0 0"/>
    <limit effort="0" lower="-1.57079632679" upper="1.57079632679" velocity="0"/>
  </joint>
  <joint name="joint_013" type="revolute">
    <axis xyz="0 1 0"/>
    <parent link="dynamixel_007"/>
    <child link="bracket_013"/>
    <origin rpy="0 0 0" xyz="0 0 0"/>
    <limit effort="0" lower="-1.57079632679" upper="1.57079632679" velocity="0"/>
  </joint>
  <joint name="fixed_013" type="fixed">
    <parent link="bracket_013"/>
    <child link="dynamixel_107"/>
    <origin rpy="1.57079632679 0 0" xyz="0.0605 0 0"/>
    <limit effort="0" lower="-1.57079632679" upper="1.57079632679" velocity="0"/>
  </joint>
  <joint name="joint_014" type="revolute">
    <axis xyz="0 1 0"/>
    <parent link="dynamixel_107"/>
    <child link="bracket_014"/>
    <origin rpy="0 0 0" xyz="0 0 0"/>
    <limit effort="0" lower="-1.57079632679" upper="1.57079632679" velocity="0"/>
  </joint>
  <joint name="fixed_014" type="fixed">
    <parent link="bracket_014"/>
    <child link="dynamixel_008"/>
    <origin rpy="-1.57079632679 0 0" xyz="0.0605 0 0"/>
    <limit effort="0" lower="-1.57079632679" upper="1.57079632679" velocity="0"/>
  </joint>
  <joint name="joint_015" type="revolute">
    <axis xyz="0 1 0"/>
    <parent link="dynamixel_008"/>
    <child link="bracket_015"/>
    <origin rpy="0 0 0" xyz="0 0 0"/>
    <limit effort="0" lower="-1.57079632679" upper="1.57079632679" velocity="0"/>
  </joint>
  <joint name="fixed_015" type="fixed">
    <parent link="bracket_015"/>
    <child link="dynamixel_108"/>
    <origin rpy="1.57079632679 0 0" xyz="0.0605 0 0"/>
    <limit effort="0" lower="-1.57079632679" upper="1.57079632679" velocity="0"/>
  </joint>
  <joint name="joint_016" type="revolute">
    <axis xyz="0 1 0"/>
    <parent link="dynamixel_108"/>
    <child link="bracket_016"/>
    <origin rpy="0 0 0" xyz="0 0 0"/>
    <limit effort="0" lower="-1.57079632679" upper="1.57079632679" velocity="0"/>
  </joint>
  <joint name="fixed_016" type="fixed">
    <parent link="bracket_016"/>
    <child link="dynamixel_009"/>
    <origin rpy="-1.57079632679 0 0" xyz="0.0605 0 0"/>
    <limit effort="0" lower="-1.57079632679" upper="1.57079632679" velocity="0"/>
  </joint>
  <joint name="joint_017" type="revolute">
    <axis xyz="0 1 0"/>
    <parent link="dynamixel_009"/>
    <child link="bracket_017"/>
    <origin rpy="0 0 0" xyz="0 0 0"/>
    <limit effort="0" lower="-1.57079632679" upper="1.57079632679" velocity="0"/>
  </joint>
  <joint name="fixed_017" type="fixed">
    <parent link="bracket_017"/>
    <child link="dynamixel_109"/>
    <origin rpy="1.57079632679 0 0" xyz="0.0605 0 0"/>
    <limit effort="0" lower="-1.57079632679" upper="1.57079632679" velocity="0"/>
  </joint>
  <joint name="joint_018" type="revolute">
    <axis xyz="0 1 0"/>
    <parent link="dynamixel_109"/>
    <child link="bracket_018"/>
    <origin rpy="0 0 0" xyz="0 0 0"/>
    <limit effort="0" lower="-1.57079632679" upper="1.57079632679" velocity="0"/>
  </joint>
  <joint name="fixed_018" type="fixed">
    <parent link="bracket_018"/>
    <child link="dynamixel_010"/>
    <origin rpy="-1.57079632679 0 0" xyz="0.0605 0 0"/>
    <limit effort="0" lower="-1.57079632679" upper="1.57079632679" velocity="0"/>
  </joint>
  <joint name="joint_019" type="revolute">
    <axis xyz="0 1 0"/>
    <parent link="dynamixel_010"/>
    <child link="bracket_019"/>
    <origin rpy="0 0 0" xyz="0 0 0"/>
    <limit effort="0" lower="-1.57079632679" upper="1.57079632679" velocity="0"/>
  </joint>
  <joint name="fixed_019" type="fixed">
    <parent link="bracket_019"/>
    <child link="dynamixel_110"/>
    <origin rpy="1.57079632679 0 0" xyz="0.0605 0 0"/>
    <limit effort="0" lower="-1.57079632679" upper="1.57079632679" velocity="0"/>
  </joint>
  <joint name="joint_020" type="revolute">
    <axis xyz="0 1 0"/>
    <parent link="dynamixel_110"/>
    <child link="bracket_020"/>
    <origin rpy="0 0 0" xyz="0 0 0"/>
    <limit effort="0" lower="-1.57079632679" upper="1.57079632679" velocity="0"/>
  </joint>
  <joint name="fixed_020" type="fixed">
    <parent link="bracket_020"/>
    <child link="dynamixel_011"/>
    <origin rpy="-1.57079632679 0 0" xyz="0.0605 0 0"/>
    <limit effort="0" lower="-1.57079632679" upper="1.57079632679" velocity="0"/>
  </joint>
  <joint name="joint_021" type="revolute">
    <axis xyz="0 1 0"/>
    <parent link="dynamixel_011"/>
    <child link="bracket_021"/>
    <origin rpy="0 0 0" xyz="0 0 0"/>
    <limit effort="0" lower="-1.57079632679" upper="1.57079632679" velocity="0"/>
  </joint>
  <joint name="fixed_021" type="fixed">
    <parent link="bracket_021"/>
    <child link="dynamixel_111"/>
    <origin rpy="1.57079632679 0 0" xyz="0.0605 0 0"/>
    <limit effort="0" lower="-1.57079632679" upper="1.57079632679" velocity="0"/>
  </joint>
  <joint name="joint_022" type="revolute">
    <axis xyz="0 1 0"/>
    <parent link="dynamixel_111"/>
    <child link="bracket_022"/>
    <origin rpy="0 0 0" xyz="0 0 0"/>
    <limit effort="0" lower="-1.57079632679" upper="1.57079632679" velocity="0"/>
  </joint>
  <joint name="fixed_022" type="fixed">
    <parent link="bracket_022"/>
    <child link="dynamixel_012"/>
    <origin rpy="-1.57079632679 0 0" xyz="0.0605 0 0"/>
    <limit effort="0" lower="-1.57079632679" upper="1.57079632679" velocity="0"/>
  </joint>
  <joint name="joint_023" type="revolute">
    <axis xyz="0 1 0"/>
    <parent link="dynamixel_012"/>
    <child link="bracket_023"/>
    <origin rpy="0 0 0" xyz="0 0 0"/>
    <limit effort="0" lower="-1.57079632679" upper="1.57079632679" velocity="0"/>
  </joint>
  <joint name="fixed_023" type="fixed">
    <parent link="bracket_023"/>
    <child link="dynamixel_112"/>
    <origin rpy="1.57079632679 0 0" xyz="0.0605 0 0"/>
    <limit effort="0" lower="-1.57079632679" upper="1.57079632679" velocity="0"/>
  </joint>
  <joint name="joint_024" type="revolute">
    <axis xyz="0 1 0"/>
    <parent link="dynamixel_112"/>
    <child link="bracket_024"/>
    <origin rpy="0 0 0" xyz="0 0 0"/>
    <limit effort="0" lower="-1.57079632679" upper="1.57079632679" velocity="0"/>
  </joint>
  <transmission name="motor_001">
    <type>transmission_interface/SimpleTransmission</type>
    <!--関節の指定-->
    <joint name="joint_001">
      <hardwareInterface>hardware_interface/PositionJointInterface</hardwareInterface>
    </joint>
    <!--アクチュエータの定義（ギア比1の減速機）-->
    <actuator name="trans_001">
      <hardwareInterface>PositionJointInterface</hardwareInterface>
      <mechanicalReduction>1</mechanicalReduction>
    </actuator>
  </transmission>
  <transmission name="motor_002">
    <type>transmission_interface/SimpleTransmission</type>
    <!--関節の指定-->
    <joint name="joint_002">
      <hardwareInterface>hardware_interface/PositionJointInterface</hardwareInterface>
    </joint>
    <!--アクチュエータの定義（ギア比1の減速機）-->
    <actuator name="trans_002">
      <hardwareInterface>PositionJointInterface</hardwareInterface>
      <mechanicalReduction>1</mechanicalReduction>
    </actuator>
  </transmission>
  <transmission name="motor_003">
    <type>transmission_interface/SimpleTransmission</type>
    <!--関節の指定-->
    <joint name="joint_003">
      <hardwareInterface>hardware_interface/PositionJointInterface</hardwareInterface>
    </joint>
    <!--アクチュエータの定義（ギア比1の減速機）-->
    <actuator name="trans_003">
      <hardwareInterface>PositionJointInterface</hardwareInterface>
      <mechanicalReduction>1</mechanicalReduction>
    </actuator>
  </transmission>
  <transmission name="motor_004">
    <type>transmission_interface/SimpleTransmission</type>
    <!--関節の指定-->
    <joint name="joint_004">
      <hardwareInterface>hardware_interface/PositionJointInterface</hardwareInterface>
    </joint>
    <!--アクチュエータの定義（ギア比1の減速機）-->
    <actuator name="trans_004">
      <hardwareInterface>PositionJointInterface</hardwareInterface>
      <mechanicalReduction>1</mechanicalReduction>
    </actuator>
  </transmission>
  <transmission name="motor_005">
    <type>transmission_interface/SimpleTransmission</type>
    <!--関節の指定-->
    <joint name="joint_005">
      <hardwareInterface>hardware_interface/PositionJointInterface</hardwareInterface>
    </joint>
    <!--アクチュエータの定義（ギア比1の減速機）-->
    <actuator name="trans_005">
      <hardwareInterface>PositionJointInterface</hardwareInterface>
      <mechanicalReduction>1</mechanicalReduction>
    </actuator>
  </transmission>
  <transmission name="motor_006">
    <type>transmission_interface/SimpleTransmission</type>
    <!--関節の指定-->
    <joint name="joint_006">
      <hardwareInterface>hardware_interface/PositionJointInterface</hardwareInterface>
    </joint>
    <!--アクチュエータの定義（ギア比1の減速機）-->
    <actuator name="trans_006">
      <hardwareInterface>PositionJointInterface</hardwareInterface>
      <mechanicalReduction>1</mechanicalReduction>
    </actuator>
  </transmission>
  <transmission name="motor_007">
    <type>transmission_interface/SimpleTransmission</type>
    <!--関節の指定-->
    <joint name="joint_007">
      <hardwareInterface>hardware_interface/PositionJointInterface</hardwareInterface>
    </joint>
    <!--アクチュエータの定義（ギア比1の減速機）-->
    <actuator name="trans_007">
      <hardwareInterface>PositionJointInterface</hardwareInterface>
      <mechanicalReduction>1</mechanicalReduction>
    </actuator>
  </transmission>
  <transmission name="motor_008">
    <type>transmission_interface/SimpleTransmission</type>
    <!--関節の指定-->
    <joint name="joint_008">
      <hardwareInterface>hardware_interface/PositionJointInterface</hardwareInterface>
    </joint>
    <!--アクチュエータの定義（ギア比1の減速機）-->
    <actuator name="trans_008">
      <hardwareInterface>PositionJointInterface</hardwareInterface>
      <mechanicalReduction>1</mechanicalReduction>
    </actuator>
  </transmission>
  <transmission name="motor_009">
    <type>transmission_interface/SimpleTransmission</type>
    <!--関節の指定-->
    <joint name="joint_009">
      <hardwareInterface>hardware_interface/PositionJointInterface</hardwareInterface>
    </joint>
    <!--アクチュエータの定義（ギア比1の減速機）-->
    <actuator name="trans_009">
      <hardwareInterface>PositionJointInterface</hardwareInterface>
      <mechanicalReduction>1</mechanicalReduction>
    </actuator>
  </transmission>
  <transmission name="motor_010">
    <type>transmission_interface/SimpleTransmission</type>
    <!--関節の指定-->
    <joint name="joint_010">
      <hardwareInterface>hardware_interface/PositionJointInterface</hardwareInterface>
    </joint>
    <!--アクチュエータの定義（ギア比1の減速機）-->
    <actuator name="trans_010">
      <hardwareInterface>PositionJointInterface</hardwareInterface>
      <mechanicalReduction>1</mechanicalReduction>
    </actuator>
  </transmission>
  <transmission name="motor_011">
    <type>transmission_interface/SimpleTransmission</type>
    <!--関節の指定-->
    <joint name="joint_011">
      <hardwareInterface>hardware_interface/PositionJointInterface</hardwareInterface>
    </joint>
    <!--アクチュエータの定義（ギア比1の減速機）-->
    <actuator name="trans_011">
      <hardwareInterface>PositionJointInterface</hardwareInterface>
      <mechanicalReduction>1</mechanicalReduction>
    </actuator>
  </transmission>
  <transmission name="motor_012">
    <type>transmission_interface/SimpleTransmission</type>
    <!--関節の指定-->
    <joint name="joint_012">
      <hardwareInterface>hardware_interface/PositionJointInterface</hardwareInterface>
    </joint>
    <!--アクチュエータの定義（ギア比1の減速機）-->
    <actuator name="trans_012">
      <hardwareInterface>PositionJointInterface</hardwareInterface>
      <mechanicalReduction>1</mechanicalReduction>
    </actuator>
  </transmission>
  <transmission name="motor_013">
    <type>transmission_interface/SimpleTransmission</type>
    <!--関節の指定-->
    <joint name="joint_013">
      <hardwareInterface>hardware_interface/PositionJointInterface</hardwareInterface>
    </joint>
    <!--アクチュエータの定義（ギア比1の減速機）-->
    <actuator name="trans_013">
      <hardwareInterface>PositionJointInterface</hardwareInterface>
      <mechanicalReduction>1</mechanicalReduction>
    </actuator>
  </transmission>
  <transmission name="motor_014">
    <type>transmission_interface/SimpleTransmission</type>
    <!--関節の指定-->
    <joint name="joint_014">
      <hardwareInterface>hardware_interface/PositionJointInterface</hardwareInterface>
    </joint>
    <!--アクチュエータの定義（ギア比1の減速機）-->
    <actuator name="trans_014">
      <hardwareInterface>PositionJointInterface</hardwareInterface>
      <mechanicalReduction>1</mechanicalReduction>
    </actuator>
  </transmission>
  <transmission name="motor_015">
    <type>transmission_interface/SimpleTransmission</type>
    <!--関節の指定-->
    <joint name="joint_015">
      <hardwareInterface>hardware_interface/PositionJointInterface</hardwareInterface>
    </joint>
    <!--アクチュエータの定義（ギア比1の減速機）-->
    <actuator name="trans_015">
      <hardwareInterface>PositionJointInterface</hardwareInterface>
      <mechanicalReduction>1</mechanicalReduction>
    </actuator>
  </transmission>
  <transmission name="motor_016">
    <type>transmission_interface/SimpleTransmission</type>
    <!--関節の指定-->
    <joint name="joint_016">
      <hardwareInterface>hardware_interface/PositionJointInterface</hardwareInterface>
    </joint>
    <!--アクチュエータの定義（ギア比1の減速機）-->
    <actuator name="trans_016">
      <hardwareInterface>PositionJointInterface</hardwareInterface>
      <mechanicalReduction>1</mechanicalReduction>
    </actuator>
  </transmission>
  <transmission name="motor_017">
    <type>transmission_interface/SimpleTransmission</type>
    <!--関節の指定-->
    <joint name="joint_017">
      <hardwareInterface>hardware_interface/PositionJointInterface</hardwareInterface>
    </joint>
    <!--アクチュエータの定義（ギア比1の減速機）-->
    <actuator name="trans_017">
      <hardwareInterface>PositionJointInterface</hardwareInterface>
      <mechanicalReduction>1</mechanicalReduction>
    </actuator>
  </transmission>
  <transmission name="motor_018">
    <type>transmission_interface/SimpleTransmission</type>
    <!--関節の指定-->
    <joint name="joint_018">
      <hardwareInterface>hardware_interface/PositionJointInterface</hardwareInterface>
    </joint>
    <!--アクチュエータの定義（ギア比1の減速機）-->
    <actuator name="trans_018">
      <hardwareInterface>PositionJointInterface</hardwareInterface>
      <mechanicalReduction>1</mechanicalReduction>
    </actuator>
  </transmission>
  <transmission name="motor_019">
    <type>transmission_interface/SimpleTransmission</type>
    <!--関節の指定-->
    <joint name="joint_019">
      <hardwareInterface>hardware_interface/PositionJointInterface</hardwareInterface>
    </joint>
    <!--アクチュエータの定義（ギア比1の減速機）-->
    <actuator name="trans_019">
      <hardwareInterface>PositionJointInterface</hardwareInterface>
      <mechanicalReduction>1</mechanicalReduction>
    </actuator>
  </transmission>
  <transmission name="motor_020">
    <type>transmission_interface/SimpleTransmission</type>
    <!--関節の指定-->
    <joint name="joint_020">
      <hardwareInterface>hardware_interface/PositionJointInterface</hardwareInterface>
    </joint>
    <!--アクチュエータの定義（ギア比1の減速機）-->
    <actuator name="trans_020">
      <hardwareInterface>PositionJointInterface</hardwareInterface>
      <mechanicalReduction>1</mechanicalReduction>
    </actuator>
  </transmission>
  <transmission name="motor_021">
    <type>transmission_interface/SimpleTransmission</type>
    <!--関節の指定-->
    <joint name="joint_021">
      <hardwareInterface>hardware_interface/PositionJointInterface</hardwareInterface>
    </joint>
    <!--アクチュエータの定義（ギア比1の減速機）-->
    <actuator name="trans_021">
      <hardwareInterface>PositionJointInterface</hardwareInterface>
      <mechanicalReduction>1</mechanicalReduction>
    </actuator>
  </transmission>
  <transmission name="motor_022">
    <type>transmission_interface/SimpleTransmission</type>
    <!--関節の指定-->
    <joint name="joint_022">
      <hardwareInterface>hardware_interface/PositionJointInterface</hardwareInterface>
    </joint>
    <!--アクチュエータの定義（ギア比1の減速機）-->
    <actuator name="trans_022">
      <hardwareInterface>PositionJointInterface</hardwareInterface>
      <mechanicalReduction>1</mechanicalReduction>
    </actuator>
  </transmission>
  <transmission name="motor_023">
    <type>transmission_interface/SimpleTransmission</type>
    <!--関節の指定-->
    <joint name="joint_023">
      <hardwareInterface>hardware_interface/PositionJointInterface</hardwareInterface>
    </joint>
    <!--アクチュエータの定義（ギア比1の減速機）-->
    <actuator name="trans_023">
      <hardwareInterface>PositionJointInterface</hardwareInterface>
      <mechanicalReduction>1</mechanicalReduction>
    </actuator>
  </transmission>
  <transmission name="motor_024">
    <type>transmission_interface/SimpleTransmission</type>
    <!--関節の指定-->
    <joint name="joint_024">
      <hardwareInterface>hardware_interface/PositionJointInterface</hardwareInterface>
    </joint>
    <!--アクチュエータの定義（ギア比1の減速機）-->
    <actuator name="trans_024">
      <hardwareInterface>PositionJointInterface</hardwareInterface>
      <mechanicalReduction>1</mechanicalReduction>
    </actuator>
  </transmission>
  <gazebo>
    <!--関節状態配信プラグインを指定-->
    <plugin filename="libgazebo_ros_joint_state_publisher.so" name="joint_state_publisher">
      <!--対象とする関節名を指定-->
      <jointName>
      ['joint_001', 'joint_002', 'joint_003', 'joint_004', 'joint_005', 'joint_006', 'joint_007', 'joint_008', 'joint_009', 'joint_010', 'joint_011', 'joint_012', 'joint_013', 'joint_014', 'joint_015', 'joint_016', 'joint_017', 'joint_018', 'joint_019', 'joint_020', 'joint_021', 'joint_022', 'joint_023', 'joint_024']
      </jointName>
    </plugin>
  </gazebo>
</robot>
